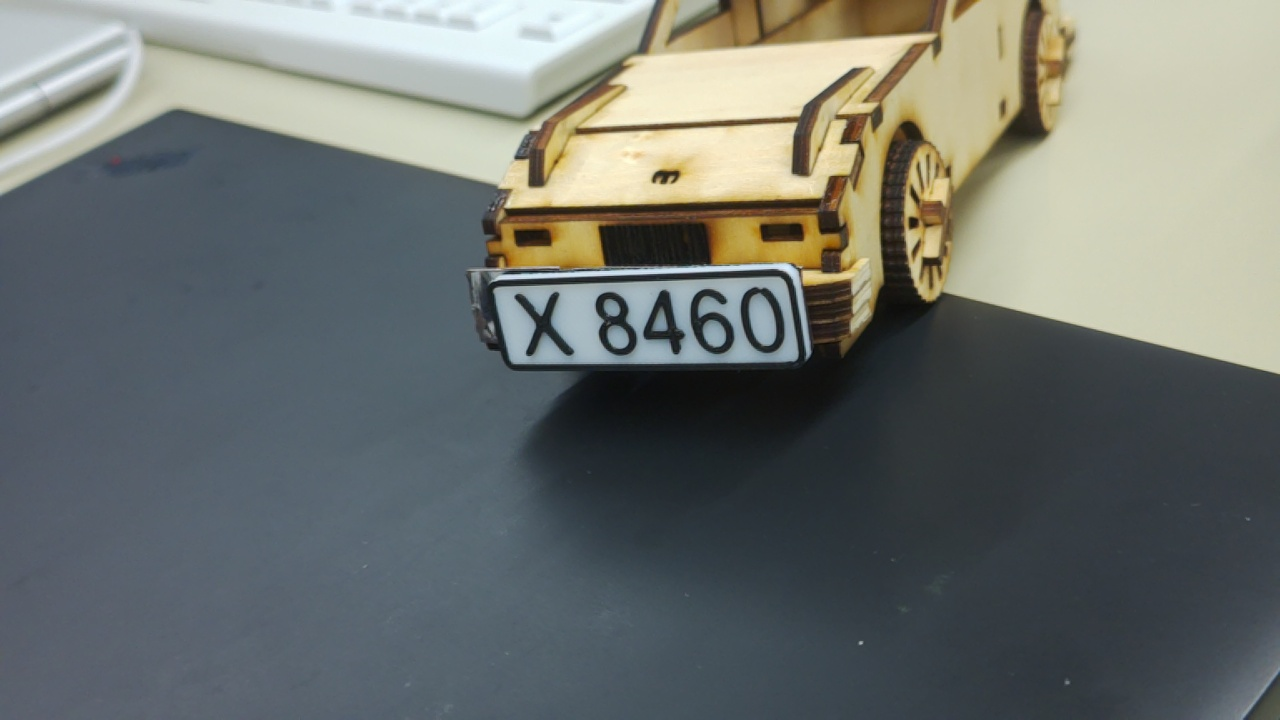license_plate: (473, 254, 824, 379)
